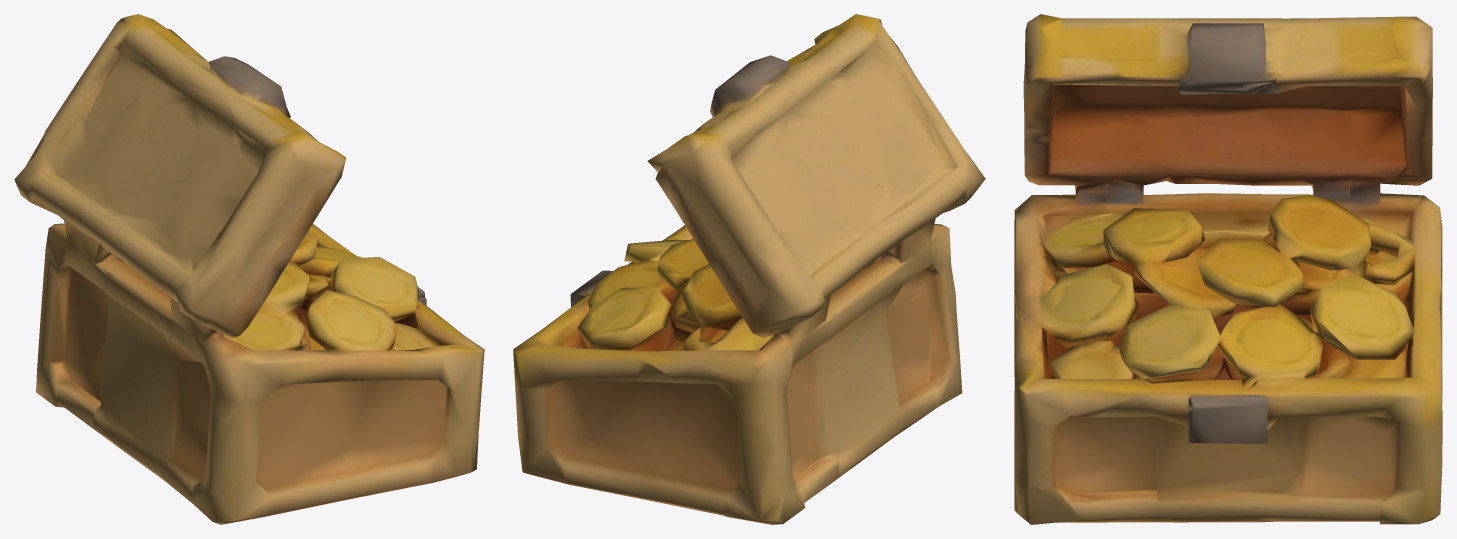
File: treasure-chest.glb
3 views of the same model, side by side, from view 1: azimuth 30°, elevation 25°; view 2: azimuth 150°, elevation 25°; view 3: azimuth 270°, elevation 25° (orthographic). The views are drawn at different scales.
Parts seen in each view (by area): view 1: tripo_node_2dfe2fe4-6a91-4e3f-b43b-32c675883093; view 2: tripo_node_2dfe2fe4-6a91-4e3f-b43b-32c675883093; view 3: tripo_node_2dfe2fe4-6a91-4e3f-b43b-32c675883093.
Part boxes in pixels (left/top/right/bottom): tripo_node_2dfe2fe4-6a91-4e3f-b43b-32c675883093: left=14, top=14, right=484, bottom=524; tripo_node_2dfe2fe4-6a91-4e3f-b43b-32c675883093: left=513, top=14, right=985, bottom=524; tripo_node_2dfe2fe4-6a91-4e3f-b43b-32c675883093: left=1014, top=14, right=1442, bottom=524.
Bounding box in the file's own units: 0.8639 × 1 × 0.9256.
1 material, 1 textured.
